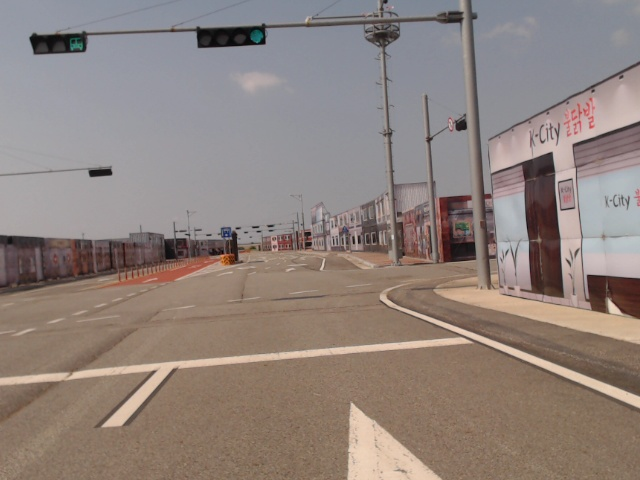straight_green_4: (197, 26, 266, 47)
